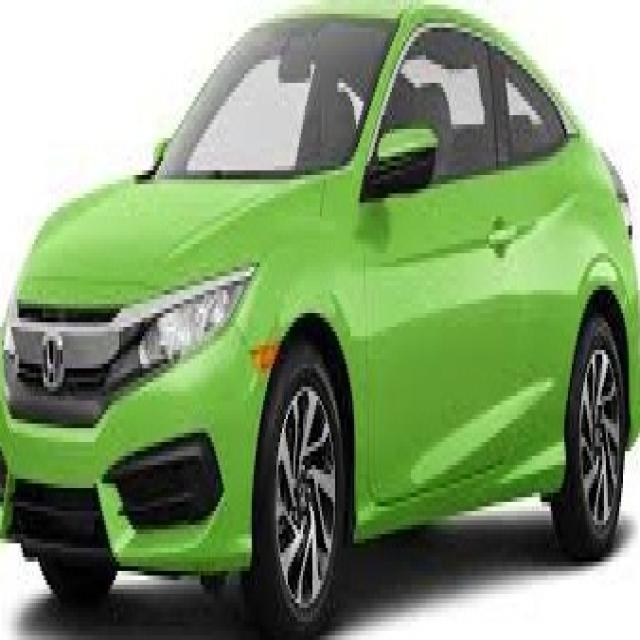green: (2, 0, 636, 640)
